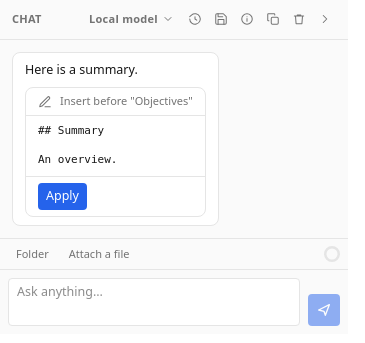
Test: ChatPanel: proposed edits › forgets what was applied when the thread is cleared
Step 1. Click the button "Apply" → (62, 196), box x1=38 y1=183 x2=87 y2=210
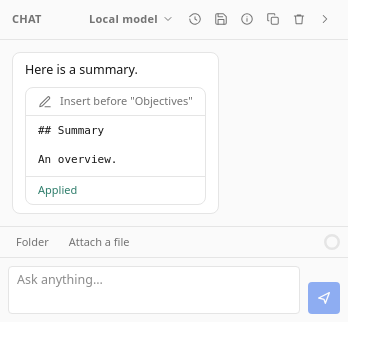
Expected: the text "Applied" is shown, x1=38 y1=183 x2=77 y2=198
Step 2. Click the button named "Clear the conversation" → (299, 19), box x1=288 y1=8 x2=310 y2=30
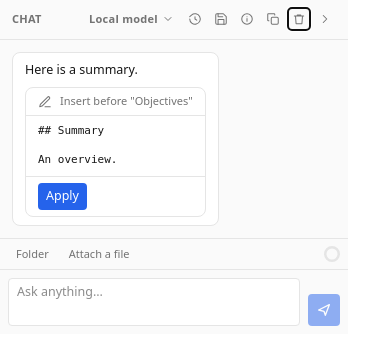
Expected: the button "Apply" is shown, x1=38 y1=183 x2=87 y2=210
